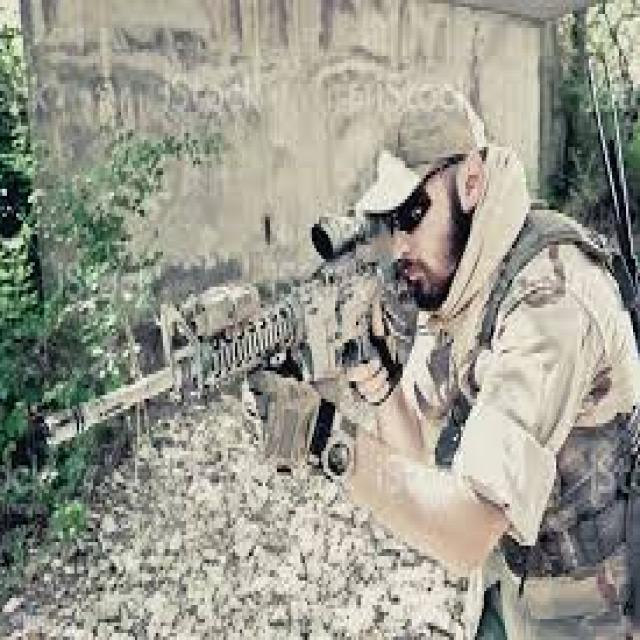soldier: (36, 87, 640, 640)
